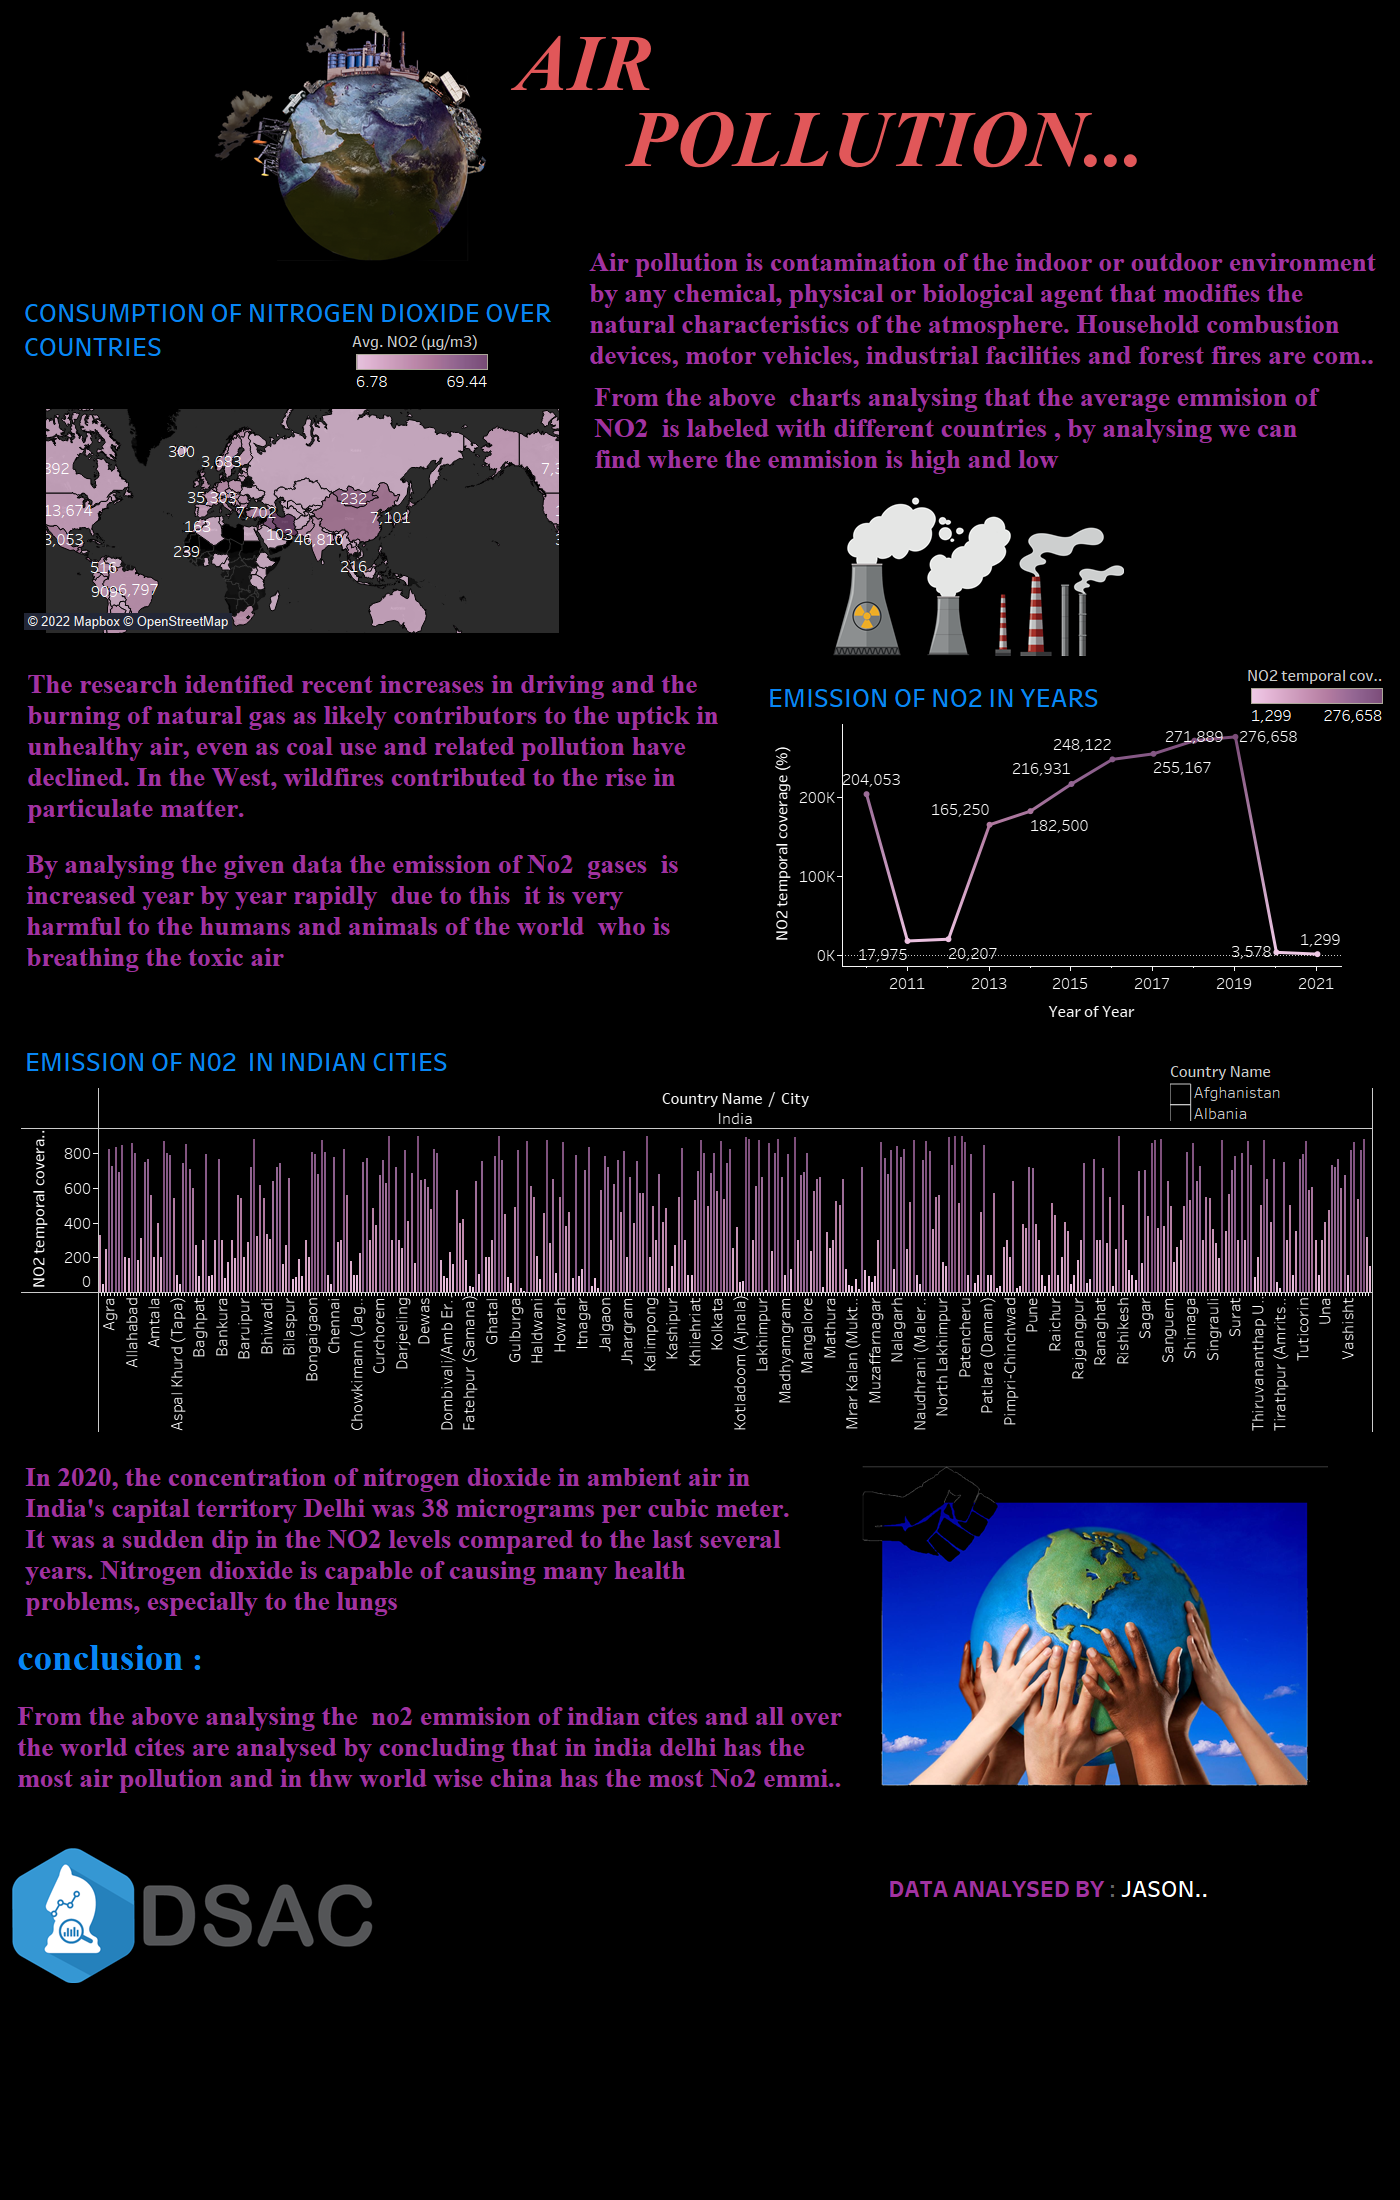

Layout of this report page (visuals, bound fields, positions):
{"tool":"tableau","page":{"name":"Dashboard 1","canvas":[1400,2200],"ordinal":0},"visuals":[{"type":"image","param":"Image/pngwing.com (3).png","box":[214,11,420,257]},{"type":"text","box":[512,31.3,224,65.2]},{"type":"text","box":[624,98.2,590,82.9]},{"type":"text","box":[586,245.4,798,129.5]},{"type":"worksheet","title":"Sheet 1","mark":"Automatic","box":[20,289.4,565,343.5]},{"type":"legend","title":"Sheet 1","param":"[federated.1sqw7xz02m8n0417jf7921rnx6fs].[avg:NO2 (μg/m3):qk]","box":[352,326.6,140,66.8]},{"type":"text","box":[591,372,746,113]},{"type":"image","param":"Image/pngwing.com (5).png","box":[833,497,491,159]},{"type":"text","box":[24,654.1,737,187.8]},{"type":"legend","title":"Sheet 2","param":"[federated.1sqw7xz02m8n0417jf7921rnx6fs].[sum:NO2 temporal coverage (%):qk]","box":[1247,660.8,140,121]},{"type":"worksheet","title":"Sheet 2","mark":"Line","rows":["NO2 temporal coverage (%)"],"cols":["Year"],"box":[764,674.4,577,355.4]},{"type":"text","box":[23,800,686,224]},{"type":"worksheet","title":"Sheet 3","mark":"Automatic","rows":["NO2 temporal coverage (%)"],"cols":["Country Name","City"],"box":[21,1038.2,1352,395.2]},{"type":"filter","title":"Sheet 3","param":"[federated.1sqw7xz02m8n0417jf7921rnx6fs].[none:Country Name:nk]","box":[1170,1060,160,61]},{"type":"text","box":[22,1433.4,786,214.9]},{"type":"image","param":"Image/NicePng_globe-in-hand-png_9434499.png","box":[862,1465.5,466,343.5]},{"type":"text","box":[14,1636.5,836,160.8]},{"type":"image","param":"Image/DSAC-logo.png","box":[12,1848,466,135.4]},{"type":"text","box":[885,1874.2,325,27.1]}]}

Visuals, with their boxes in screenshot pixels (x1, y1, x2, y2), scaled from the page's 1400x2200 canvas onto the 1400x2200 screenshot:
image: box=[214, 11, 634, 268]
text: box=[512, 31, 736, 96]
text: box=[624, 98, 1214, 181]
text: box=[586, 245, 1384, 375]
"Sheet 1" worksheet: box=[20, 289, 585, 633]
"Sheet 1" legend: box=[352, 327, 492, 393]
text: box=[591, 372, 1337, 485]
image: box=[833, 497, 1324, 656]
text: box=[24, 654, 761, 842]
"Sheet 2" legend: box=[1247, 661, 1387, 782]
"Sheet 2" worksheet (Line marks): box=[764, 674, 1341, 1030]
text: box=[23, 800, 709, 1024]
"Sheet 3" worksheet: box=[21, 1038, 1373, 1433]
"Sheet 3" filter: box=[1170, 1060, 1330, 1121]
text: box=[22, 1433, 808, 1648]
image: box=[862, 1466, 1328, 1809]
text: box=[14, 1636, 850, 1797]
image: box=[12, 1848, 478, 1983]
text: box=[885, 1874, 1210, 1901]
